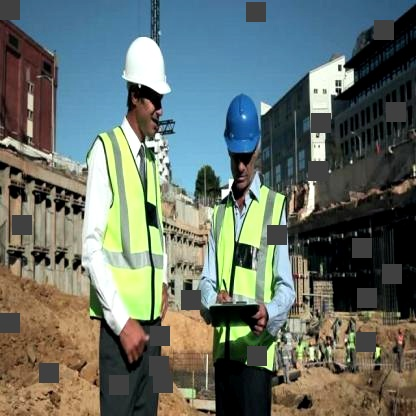blue: (220, 90, 262, 158)
vest: (76, 122, 174, 336), (204, 178, 288, 373)
white: (117, 30, 177, 99)
